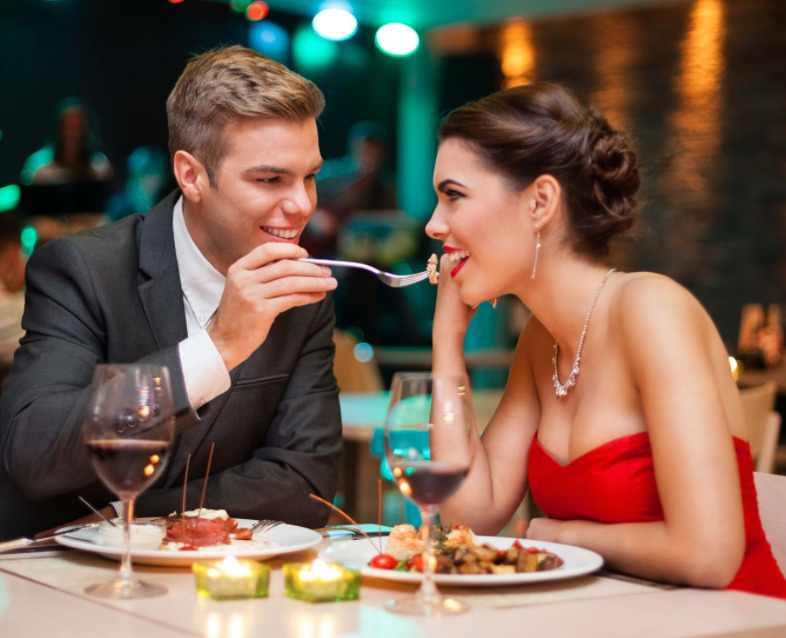Bad: (3, 45, 728, 365)
